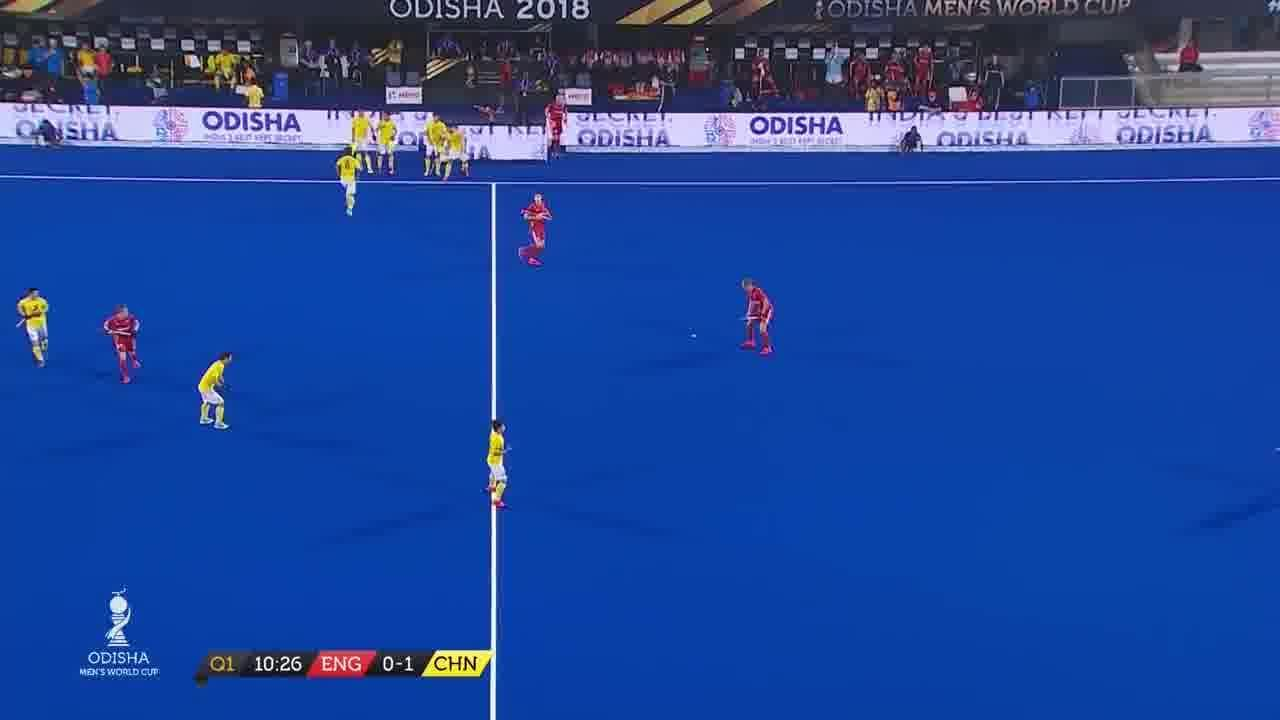ball: (689, 330, 701, 342)
